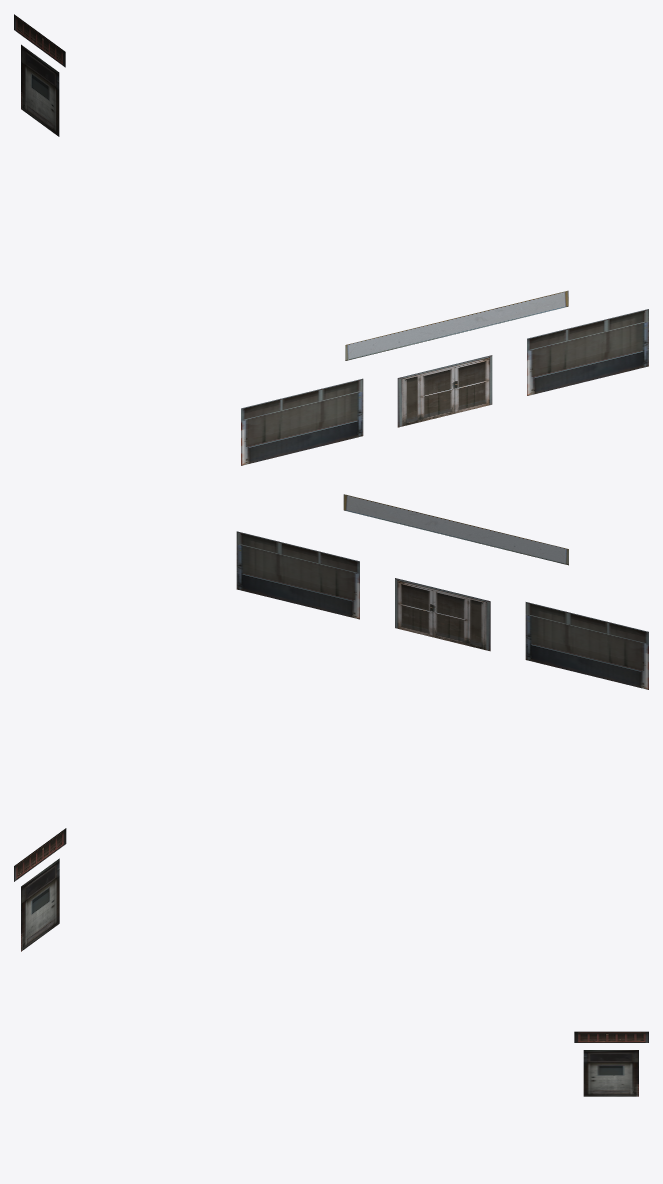
Rendered from rural_storesmall_2_rural_facade_flr_2_0_lev2.glb.
3 views of the same model, one above another, from view 1: azimuth 30°, elevation 25°; view 2: azimuth 150°, elevation 25°; view 3: azimuth 270°, elevation 25° (orthographic). The views are drawn at different scales.
Visible parts, largest first — view 1: rural_storesmall_2_rural_facade_flr_2_0_lev2; view 2: rural_storesmall_2_rural_facade_flr_2_0_lev2; view 3: rural_storesmall_2_rural_facade_flr_2_0_lev2.
Part boxes in pixels (x1,y1,x2,y2): rural_storesmall_2_rural_facade_flr_2_0_lev2: [14, 14, 648, 465]; rural_storesmall_2_rural_facade_flr_2_0_lev2: [14, 494, 648, 951]; rural_storesmall_2_rural_facade_flr_2_0_lev2: [574, 1031, 648, 1096].
Size of the model in its own units: 6.3 by 1.59 by 11.77.
1 material, 1 textured.
